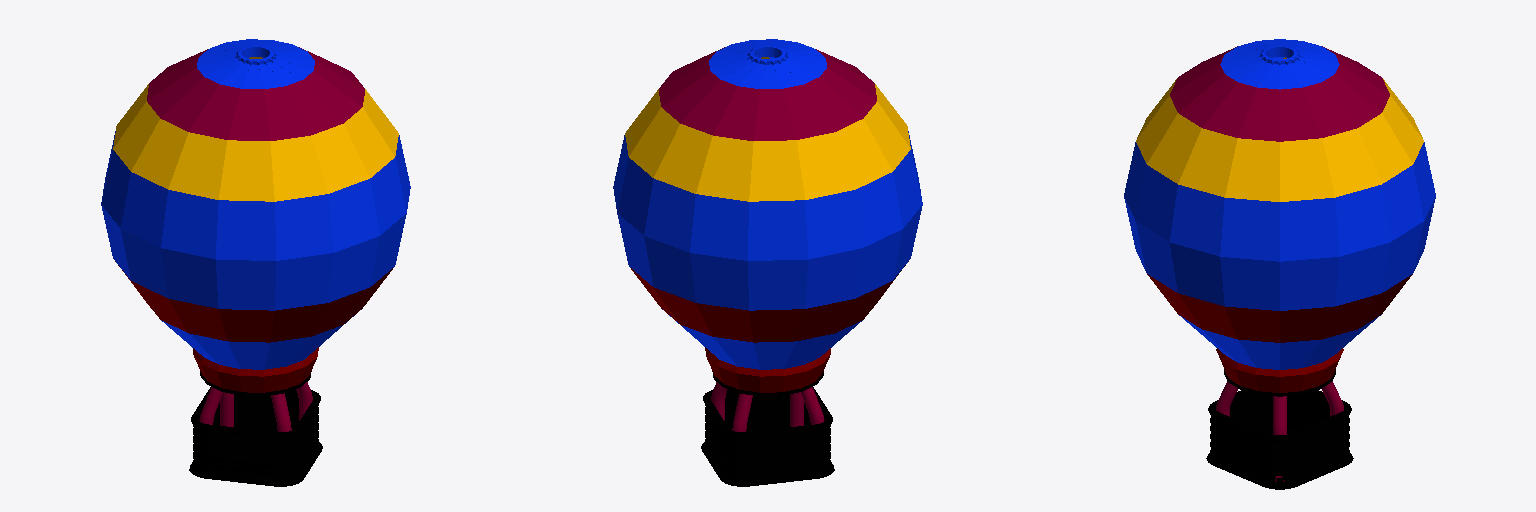
Rendered from Baluminaria.obj.
3 renders of one model, left to right at view 1: azimuth 30°, elevation 25°; view 2: azimuth 150°, elevation 25°; view 3: azimuth 270°, elevation 25°, orthographic.
Parts seen in each view (by area): view 1: Seg04, Seg05, Seg03, Seg06, Cesto, Seg02, Seg07, Seg01, Boca, Cordas, Ring07-Topo; view 2: Seg04, Seg05, Seg03, Seg06, Cesto, Seg02, Seg07, Seg01, Boca, Cordas, Ring07-Topo; view 3: Seg04, Seg05, Seg03, Seg06, Cesto, Seg02, Seg07, Seg01, Boca, Cordas, Ring07-Topo.
Boxes of the visible parts, x1=… form: Seg04: x1=101, y1=131, x2=410, y2=260; Seg05: x1=113, y1=57, x2=398, y2=201; Seg03: x1=101, y1=205, x2=406, y2=310; Seg06: x1=147, y1=47, x2=364, y2=140; Cesto: x1=189, y1=387, x2=322, y2=486; Seg02: x1=115, y1=261, x2=392, y2=342; Seg07: x1=197, y1=39, x2=314, y2=88; Seg01: x1=161, y1=309, x2=361, y2=369; Boca: x1=193, y1=347, x2=318, y2=392; Cordas: x1=199, y1=382, x2=312, y2=431; Ring07-Topo: x1=235, y1=46, x2=276, y2=65; Seg04: x1=613, y1=131, x2=922, y2=260; Seg05: x1=625, y1=57, x2=910, y2=201; Seg03: x1=617, y1=205, x2=922, y2=310; Seg06: x1=659, y1=47, x2=876, y2=140; Cesto: x1=701, y1=387, x2=834, y2=486; Seg02: x1=631, y1=261, x2=908, y2=342; Seg07: x1=709, y1=39, x2=826, y2=88; Seg01: x1=662, y1=309, x2=862, y2=369; Boca: x1=705, y1=347, x2=830, y2=392; Cordas: x1=711, y1=382, x2=824, y2=431; Ring07-Topo: x1=747, y1=46, x2=788, y2=65; Seg04: x1=1124, y1=142, x2=1435, y2=261; Seg05: x1=1136, y1=57, x2=1423, y2=201; Seg03: x1=1124, y1=197, x2=1435, y2=310; Seg06: x1=1170, y1=46, x2=1389, y2=141; Cesto: x1=1206, y1=390, x2=1353, y2=489; Seg02: x1=1147, y1=274, x2=1412, y2=342; Seg07: x1=1220, y1=39, x2=1339, y2=89; Seg01: x1=1179, y1=315, x2=1380, y2=369; Boca: x1=1216, y1=348, x2=1343, y2=392; Cordas: x1=1216, y1=381, x2=1343, y2=481; Ring07-Topo: x1=1259, y1=46, x2=1300, y2=64.
Bounding box in the file's own units: 175 × 251 × 175.